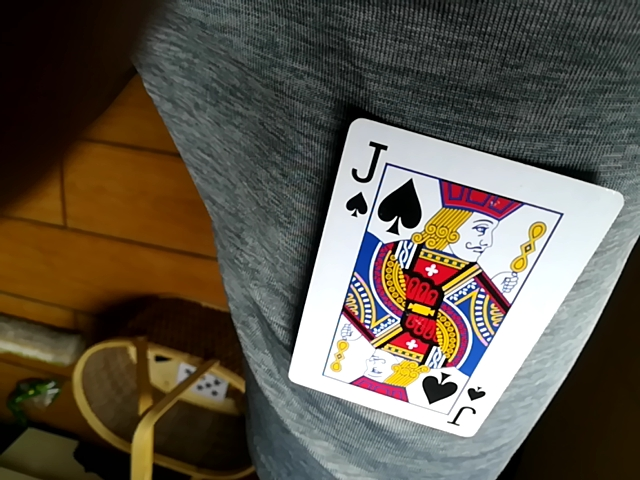ht j: (285, 117, 625, 446)
